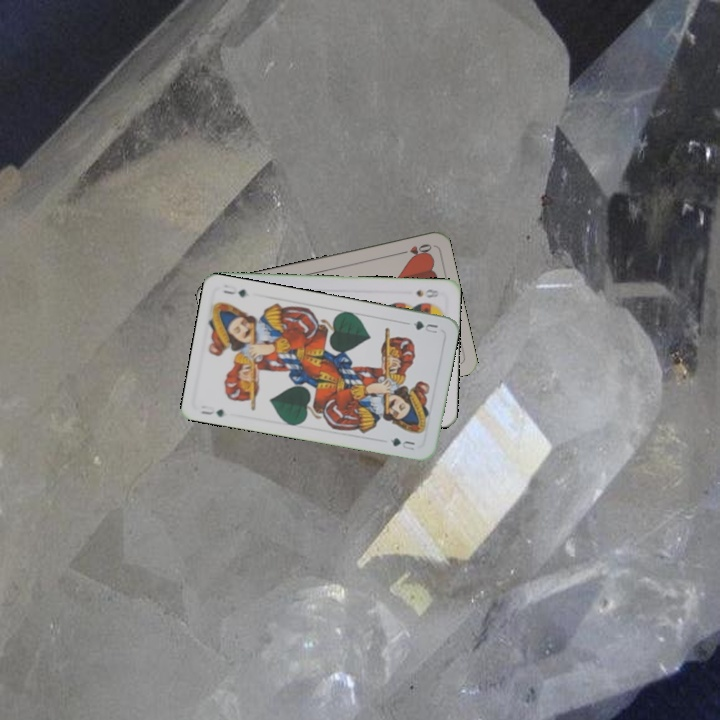GU: (409, 317, 440, 336), (196, 405, 227, 419)
HO: (395, 240, 434, 259)
S8: (412, 285, 441, 300)
